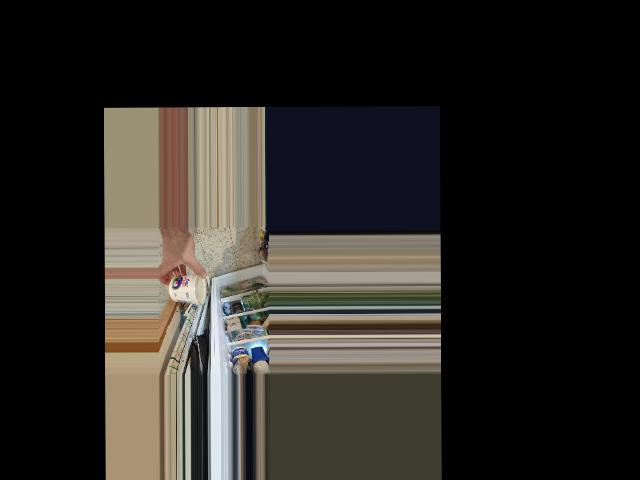cotage: (171, 272, 204, 302)
